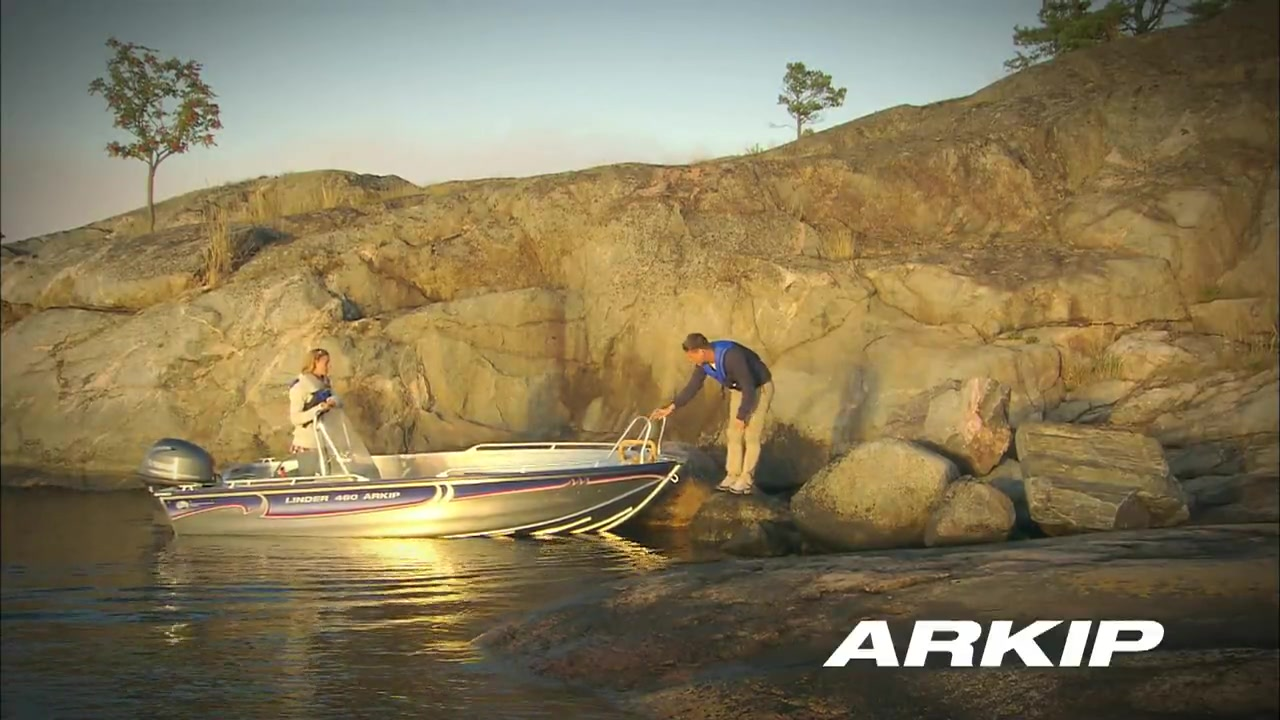boat: (143, 404, 684, 544)
